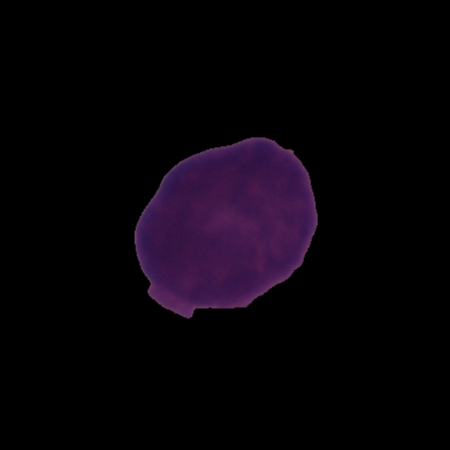HEM: (131, 133, 321, 321)
